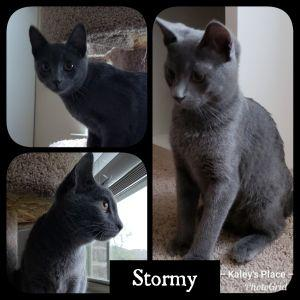rblue: (151, 17, 246, 123)
